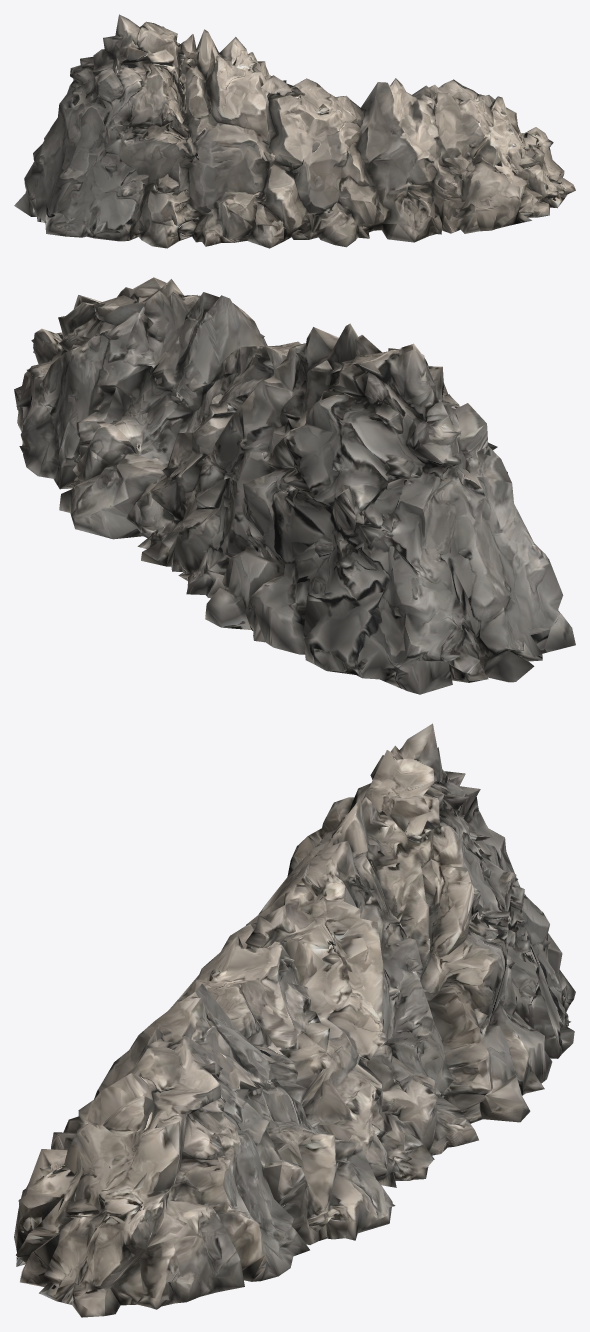
File: ridge_a_lod1.glb
3 views of the same model, one above another, from view 1: azimuth 30°, elevation 25°; view 2: azimuth 150°, elevation 25°; view 3: azimuth 270°, elevation 25° (orthographic). The views are drawn at different scales.
Parts seen in each view (by area): view 1: ridge_a_lod1; view 2: ridge_a_lod1; view 3: ridge_a_lod1.
Boxes of the visible parts, left/top/right/bottom form: ridge_a_lod1: left=14, top=14, right=575, bottom=248; ridge_a_lod1: left=14, top=277, right=575, bottom=694; ridge_a_lod1: left=14, top=723, right=575, bottom=1317.
Bounding box in the file's own units: 39.97 × 16 × 26.31.
1 material, 1 textured.
